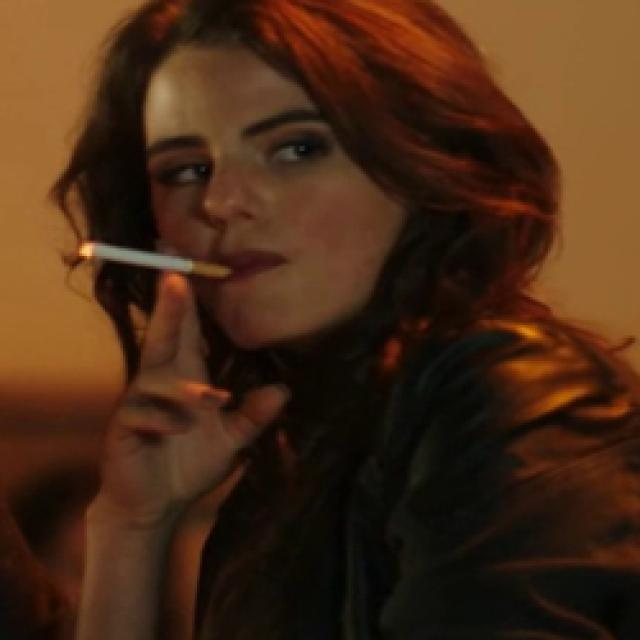Smooking: (74, 236, 230, 297)
